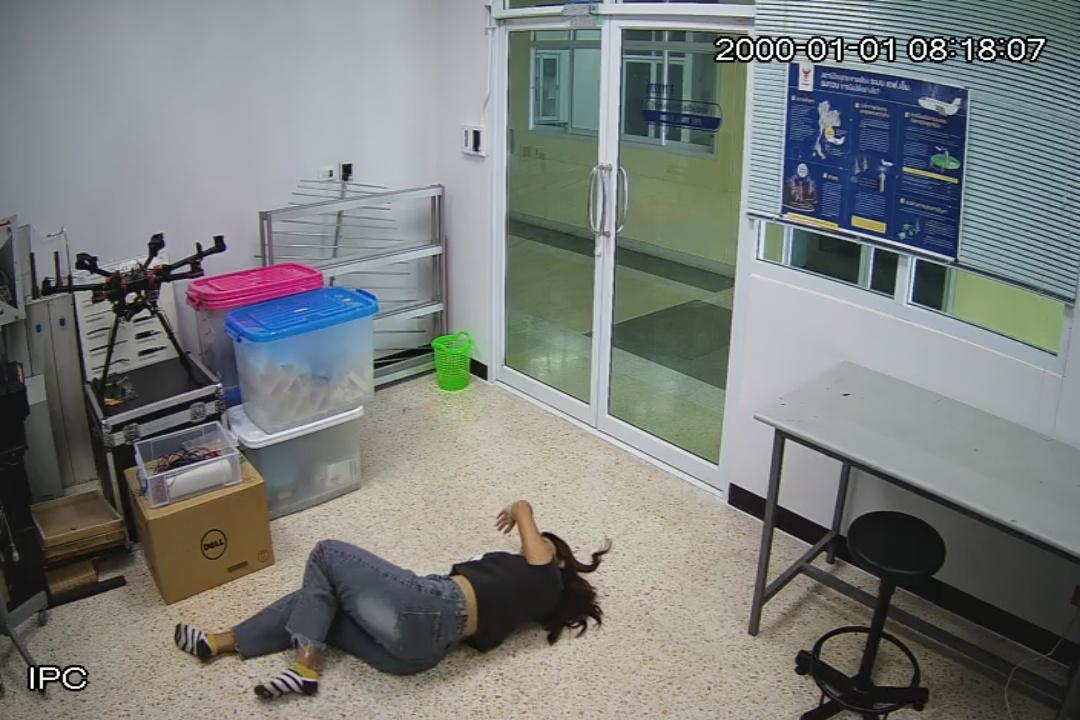fall: (172, 499, 595, 698)
